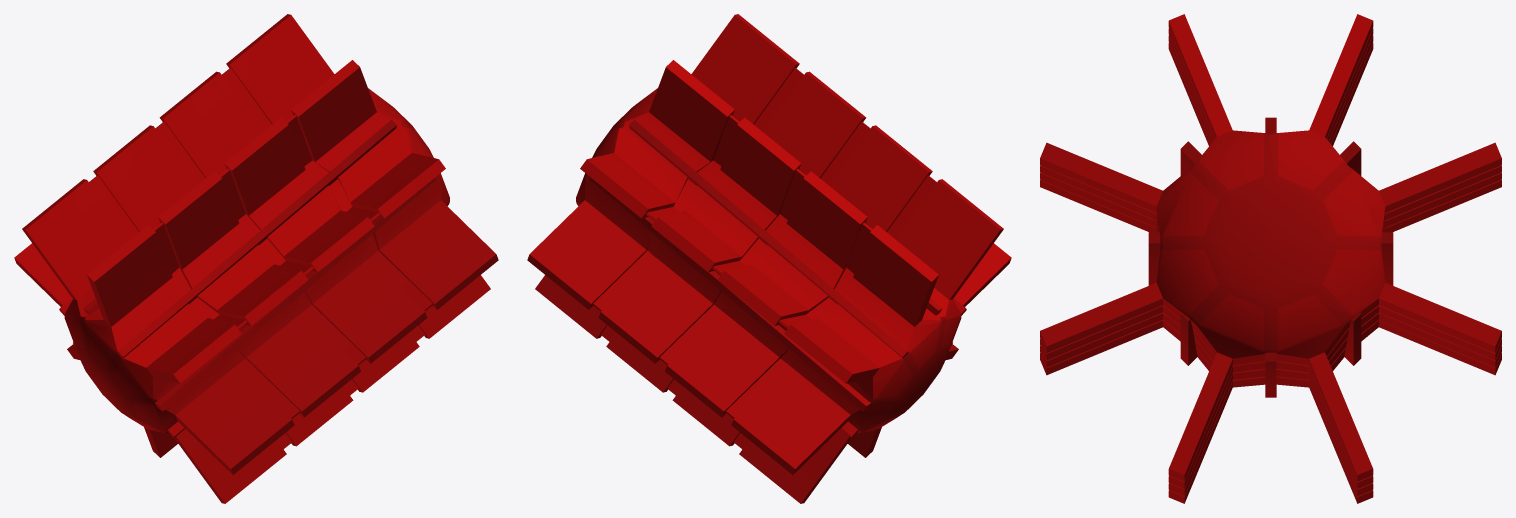
File: Sketchfab_Scene.gltf
3 views of the same model, side by side, from view 1: azimuth 30°, elevation 25°; view 2: azimuth 150°, elevation 25°; view 3: azimuth 270°, elevation 25° (orthographic). The views are drawn at different scales.
Parts seen in each view (by area): view 1: Cube.032_4; view 2: Cube.032_4; view 3: Cube.032_4.
Part boxes in pixels (box(x1,y1,x2,y2)): Cube.032_4: box(14, 14, 498, 503); Cube.032_4: box(527, 14, 1011, 503); Cube.032_4: box(1040, 14, 1501, 503).
Size of the model in its own units: 0.7424 by 0.7287 by 0.5259.
1 material, 1 textured.
